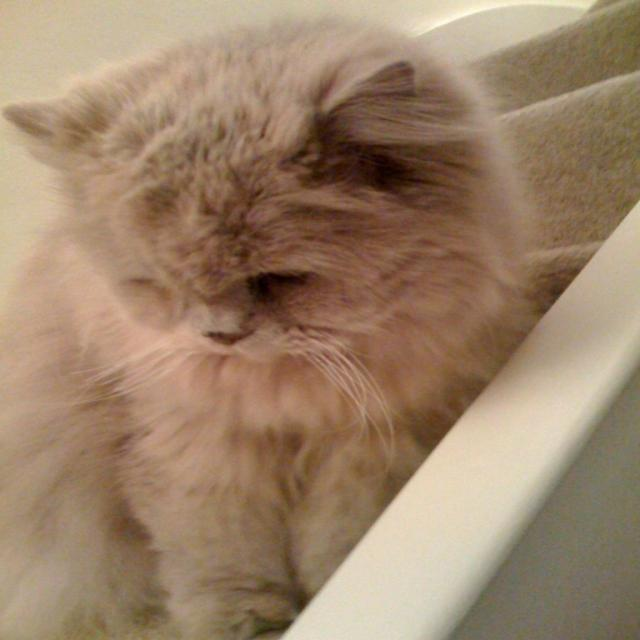Cat: (0, 15, 537, 639)
